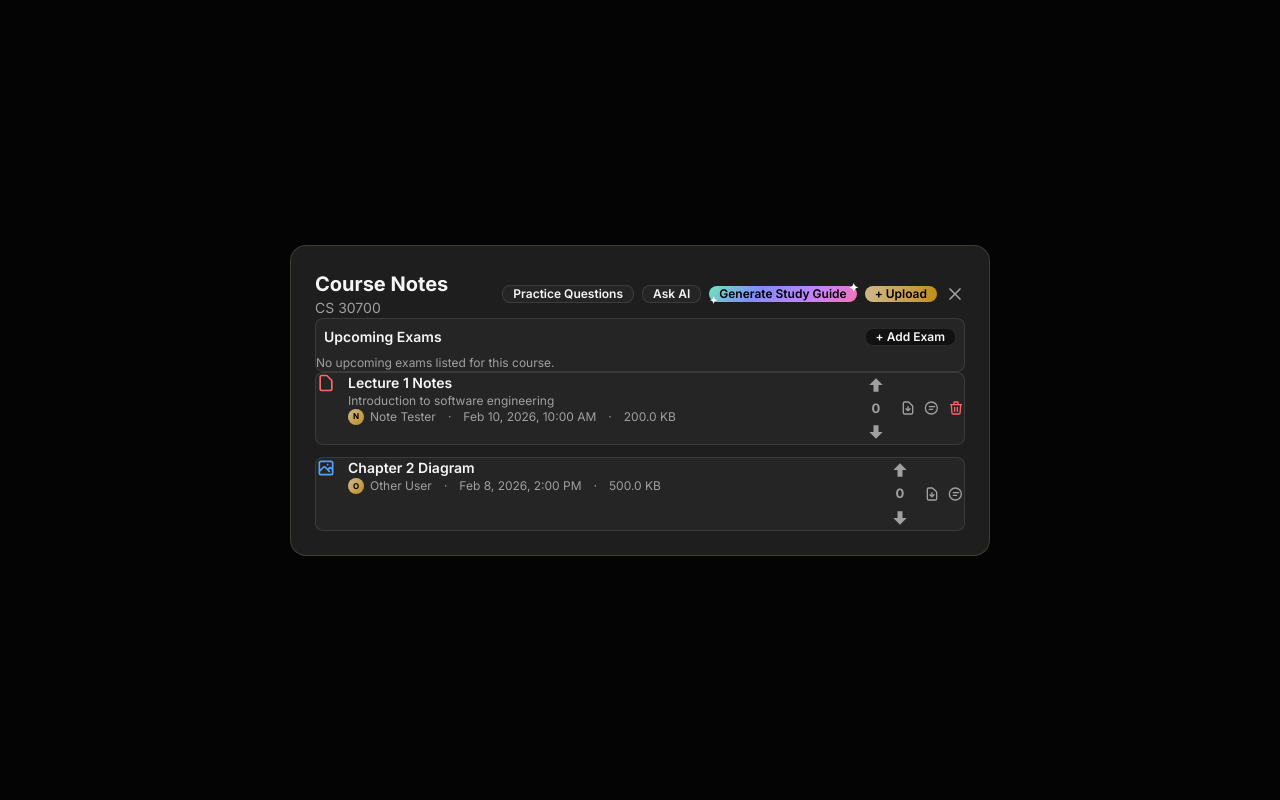
it: CourseNotes — Comment Toggle › can expand comments on multiple notes independently
Expected: the heading "Lecture 1 Notes" is shown, x1=348 y1=374 x2=452 y2=390
// Open comments on first note
Click the button titled "Comments" in the row of "200.0 KB" at (932, 408), box x1=924 y1=400 x2=940 y2=416
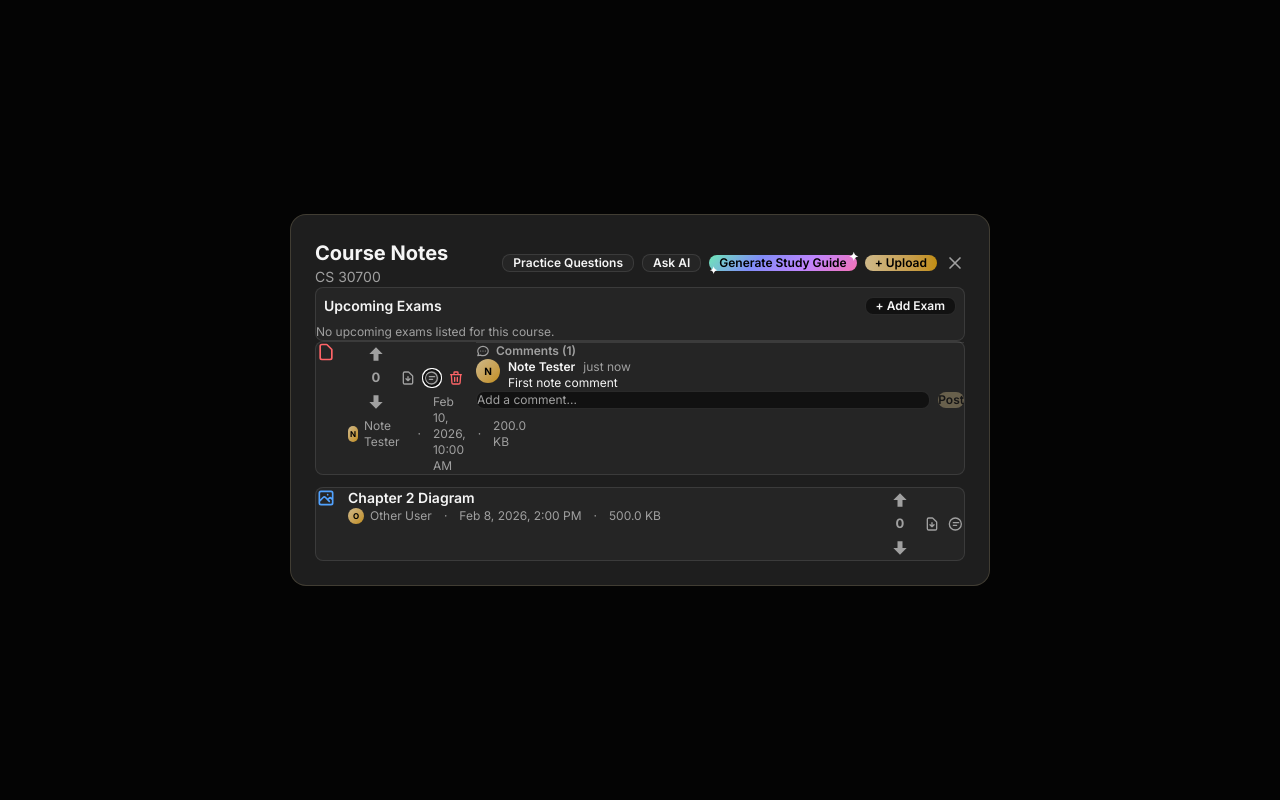
Expected: the text "First note comment" is shown, x1=508 y1=375 x2=618 y2=390
// Open comments on second note
Click the button titled "Comments" in the row of "500.0 KB" at (956, 524), box x1=948 y1=516 x2=964 y2=532
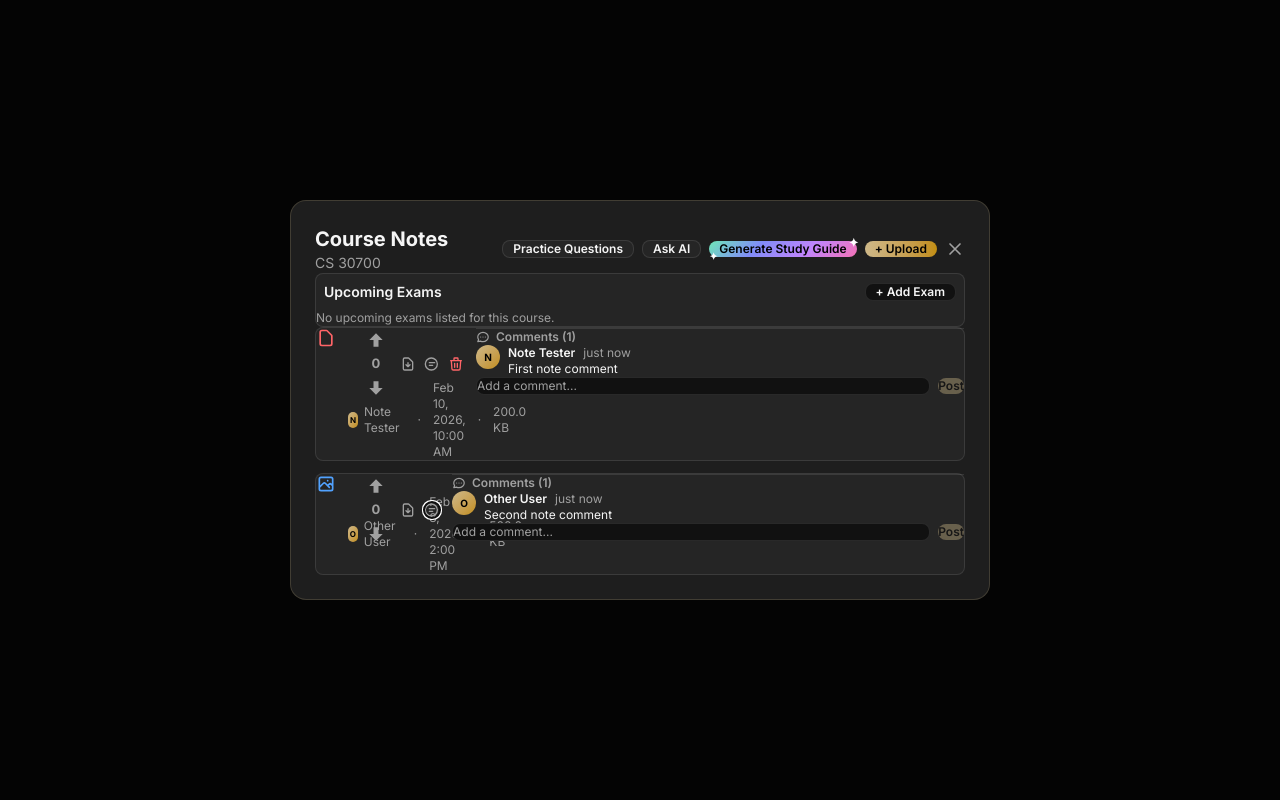
Expected: the text "First note comment" is shown, x1=508 y1=361 x2=618 y2=376
Expected: the text "Second note comment" is shown, x1=484 y1=507 x2=612 y2=522
